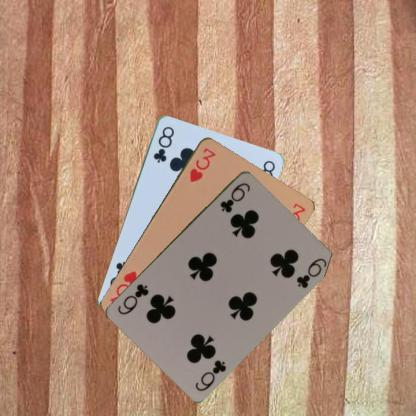3h: (187, 144, 217, 184)
6c: (192, 357, 228, 392), (218, 180, 252, 214)
8c: (150, 123, 175, 164)
